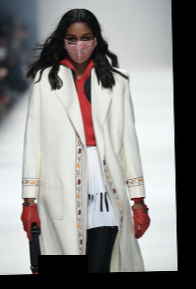with_mask: (62, 29, 98, 62)
